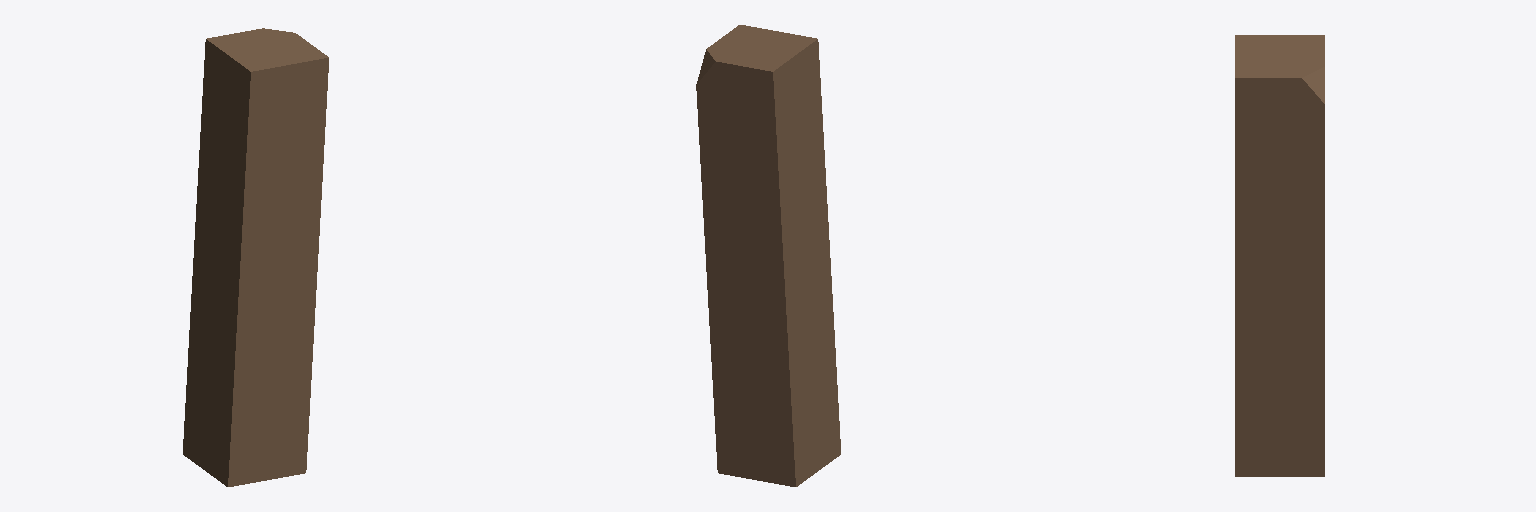
File: Hilly_Prop_Fence_Post_1.obj
3 views of the same model, side by side, from view 1: azimuth 30°, elevation 25°; view 2: azimuth 150°, elevation 25°; view 3: azimuth 270°, elevation 25° (orthographic).
Visible parts, largest first — view 1: object1; view 2: object1; view 3: object1.
Boxes of the visible parts, box(x1,y1,x2,y2) form: object1: box(183, 28, 328, 486); object1: box(696, 25, 840, 486); object1: box(1235, 35, 1324, 476).
Size of the model in its own units: 0.1938 by 0.7575 by 0.15.